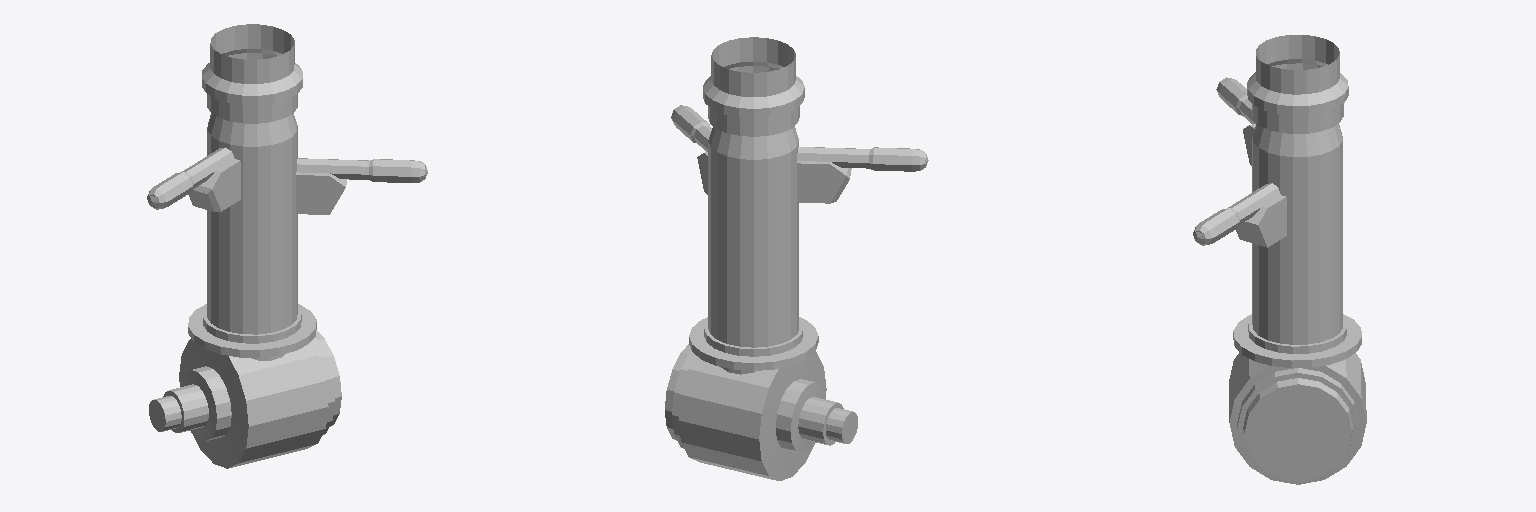
File: mastCamBase.obj
The picture shows the model from 3 angles: view 1: azimuth 30°, elevation 25°; view 2: azimuth 150°, elevation 25°; view 3: azimuth 270°, elevation 25°; orthographic projection.
Visible parts, largest first — view 1: mast_01.001_Mesh.016; view 2: mast_01.001_Mesh.016; view 3: mast_01.001_Mesh.016.
Boxes of the visible parts, box(x1,y1,x2,y2) form: mast_01.001_Mesh.016: box(147, 24, 427, 468); mast_01.001_Mesh.016: box(665, 37, 928, 480); mast_01.001_Mesh.016: box(1193, 35, 1366, 484).
Bounding box in the file's own units: 0.355 × 0.5256 × 0.2006.